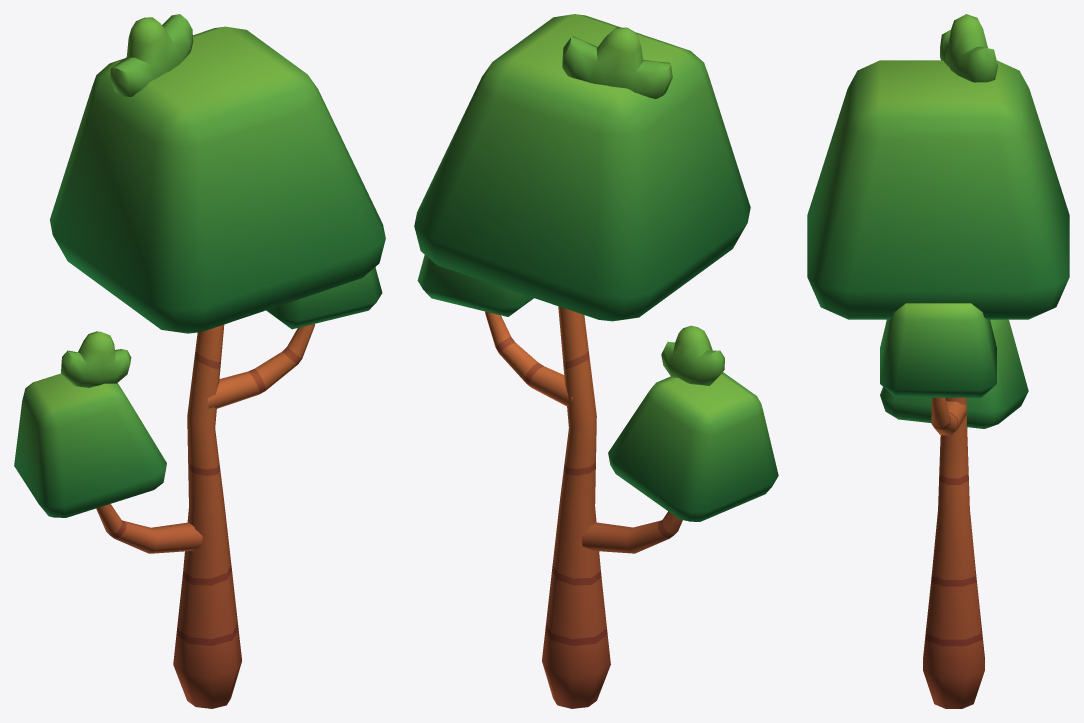
The model's file is Tree_6_B_Color1.gltf.
3 views of the same model, side by side, from view 1: azimuth 30°, elevation 25°; view 2: azimuth 150°, elevation 25°; view 3: azimuth 270°, elevation 25° (orthographic). The views are drawn at different scales.
Parts seen in each view (by area): view 1: Tree_6_B_Color1; view 2: Tree_6_B_Color1; view 3: Tree_6_B_Color1.
Boxes of the visible parts, x1,y1,x2,y2 form: Tree_6_B_Color1: [14, 14, 385, 708]; Tree_6_B_Color1: [414, 14, 778, 708]; Tree_6_B_Color1: [807, 14, 1069, 708].
Bounding box in the file's own units: 2.75 × 5.58 × 2.
1 material, 1 textured.
